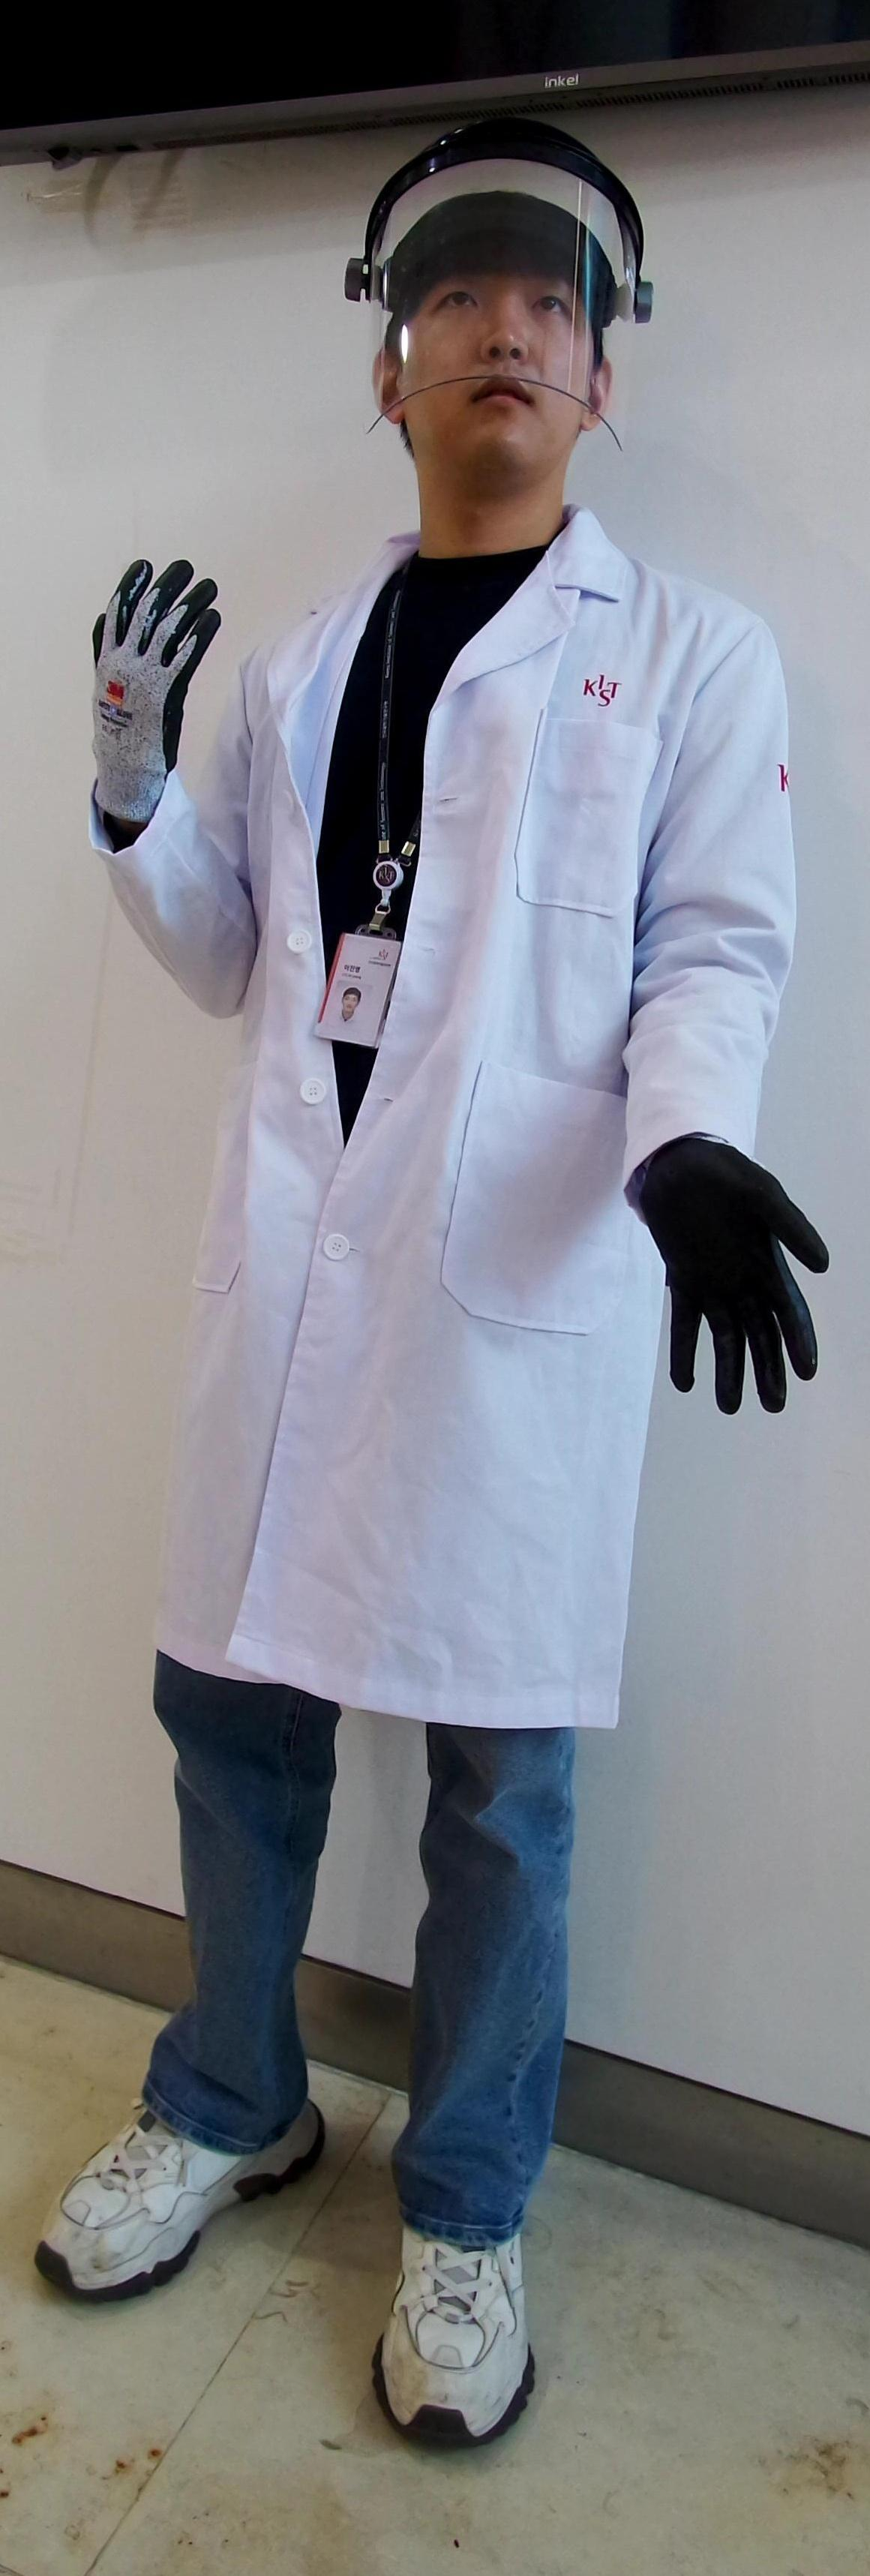lab_coat: (204, 595, 670, 1694)
